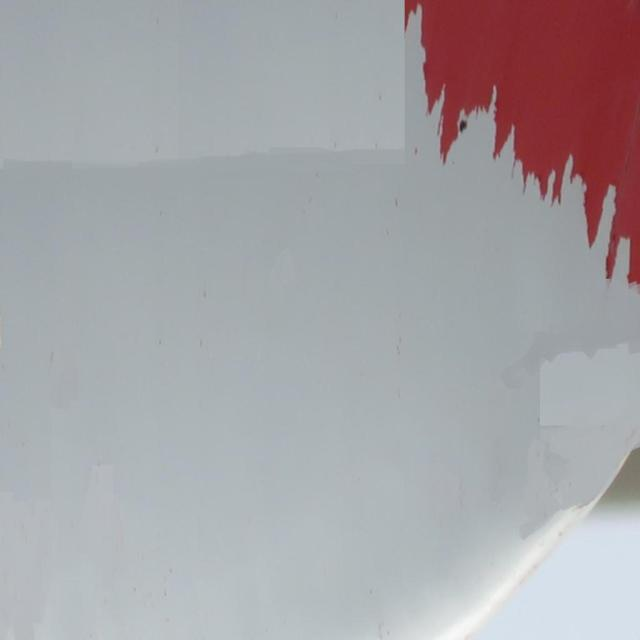corrosion: (404, 2, 640, 287)
